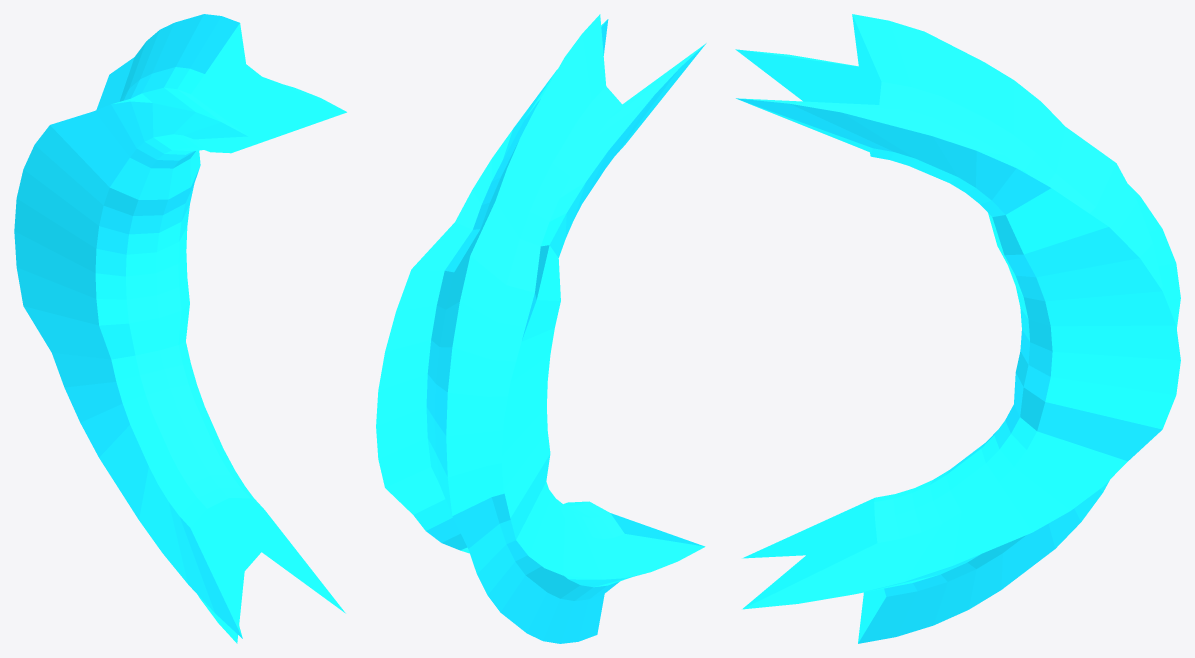
Rendered from attackWave.fbx.
3 renders of one model, left to right at view 1: azimuth 30°, elevation 25°; view 2: azimuth 150°, elevation 25°; view 3: azimuth 270°, elevation 25°, orthographic.
Parts seen in each view (by area): view 1: Plane; view 2: Plane; view 3: Plane.
Part boxes in pixels (x1,y1,x2,y2): Plane: (14, 14, 346, 643); Plane: (376, 14, 706, 643); Plane: (735, 14, 1180, 643).
Size of the model in its own units: 60.17 by 284 by 182.
